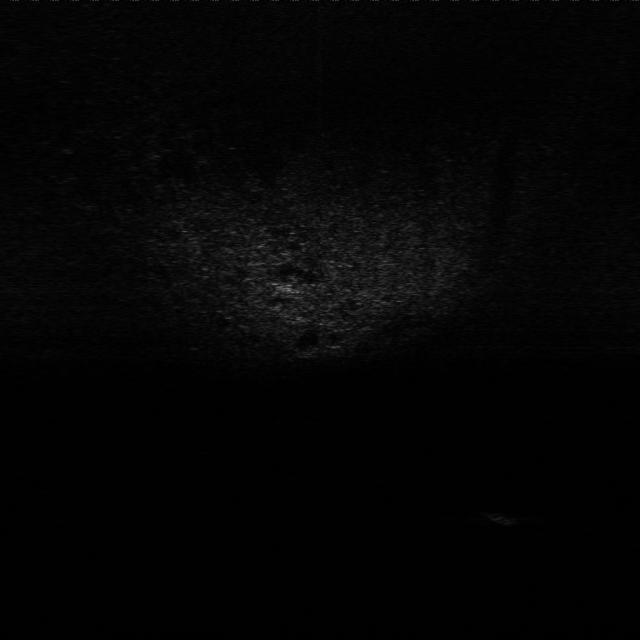cylinder: (484, 504, 524, 533)
